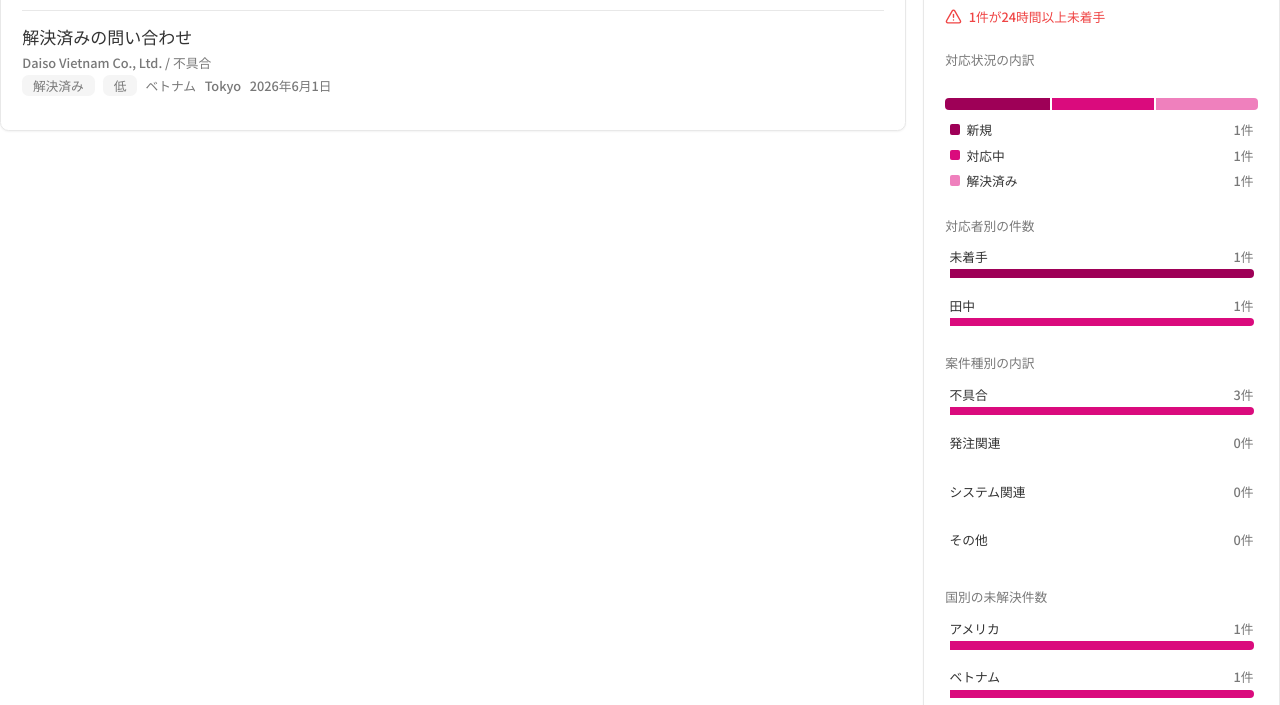
Scenario: HelpdeskInquiryListClient › 対応者行をクリックすると対応者セレクトの選択も同期する
This screenshot has width=1280, height=705.
(page scrolled)
Click the text "田中": (962, 305) [950, 297, 975, 314]
(page scrolled)
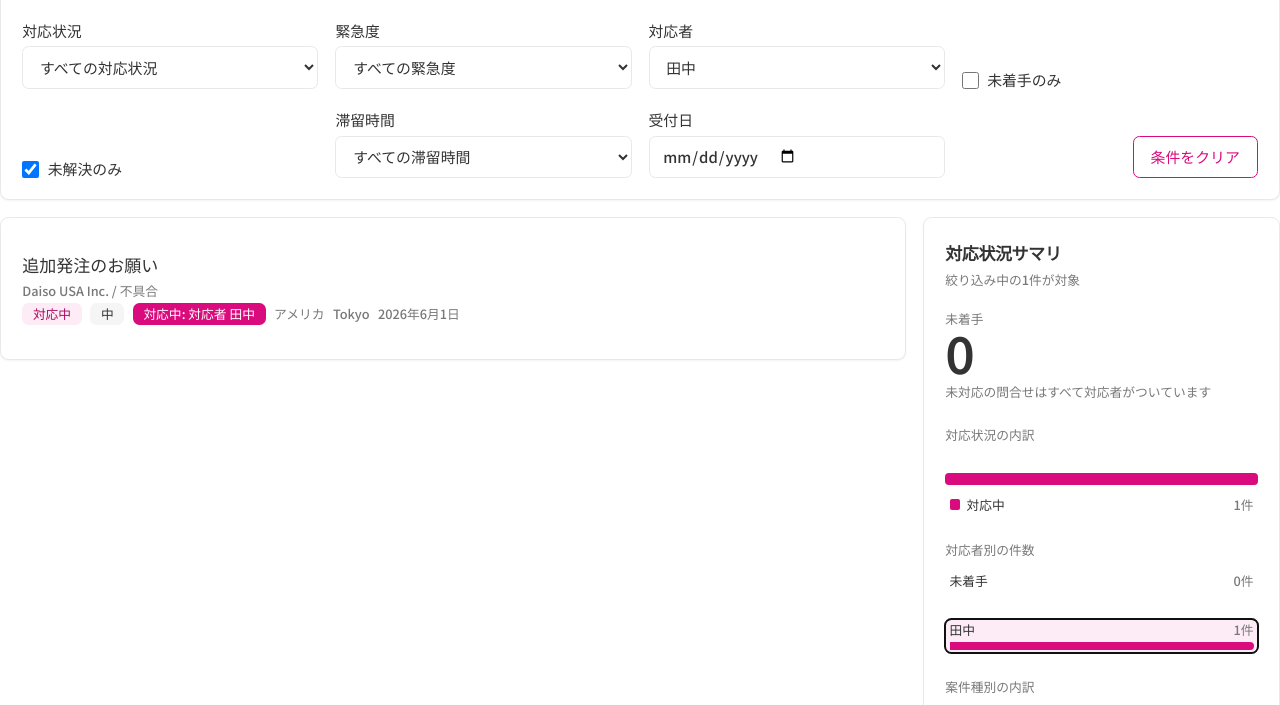
Expected: the link "追加発注のお願い" is shown, [22, 252, 158, 277]
Now the dropdown labelled "対応者" shows "田中", box [648, 46, 945, 89]
